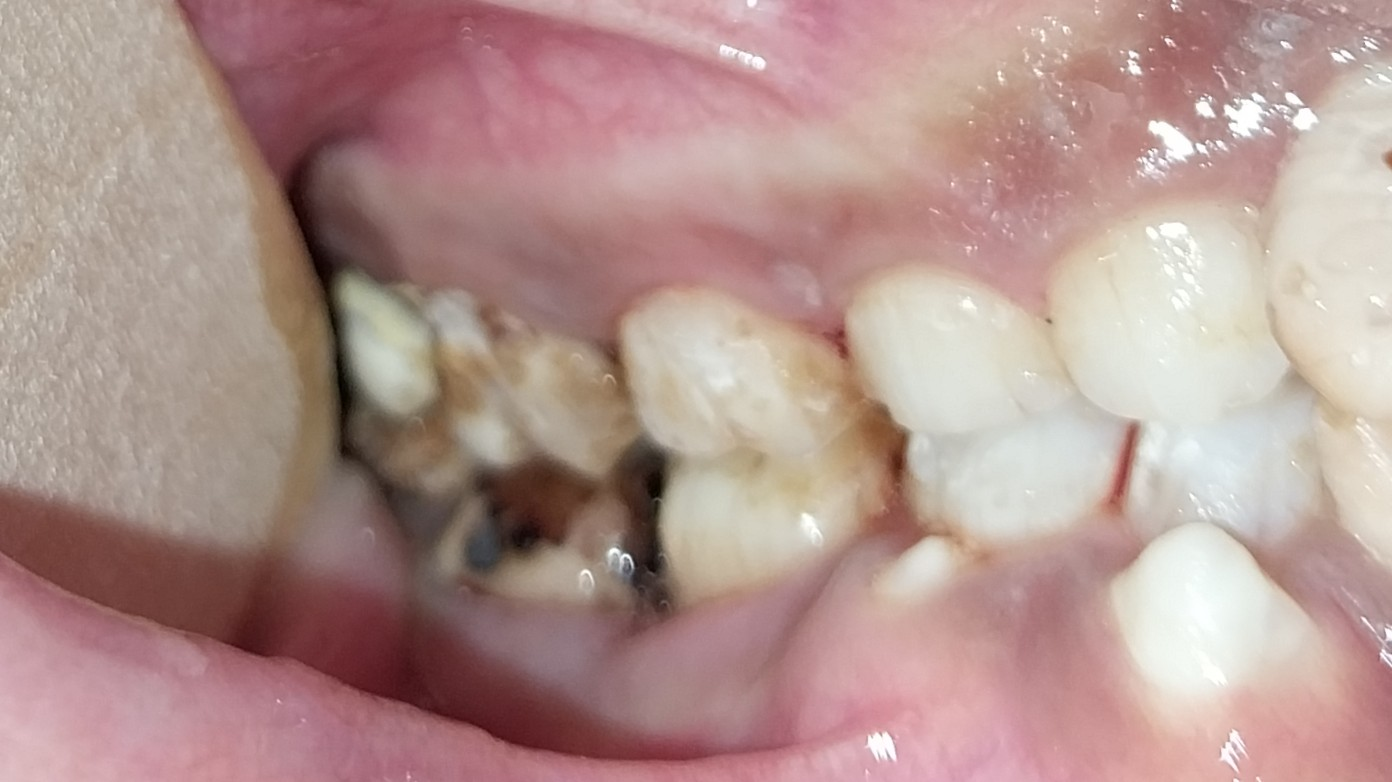D: (411, 474, 654, 620)
